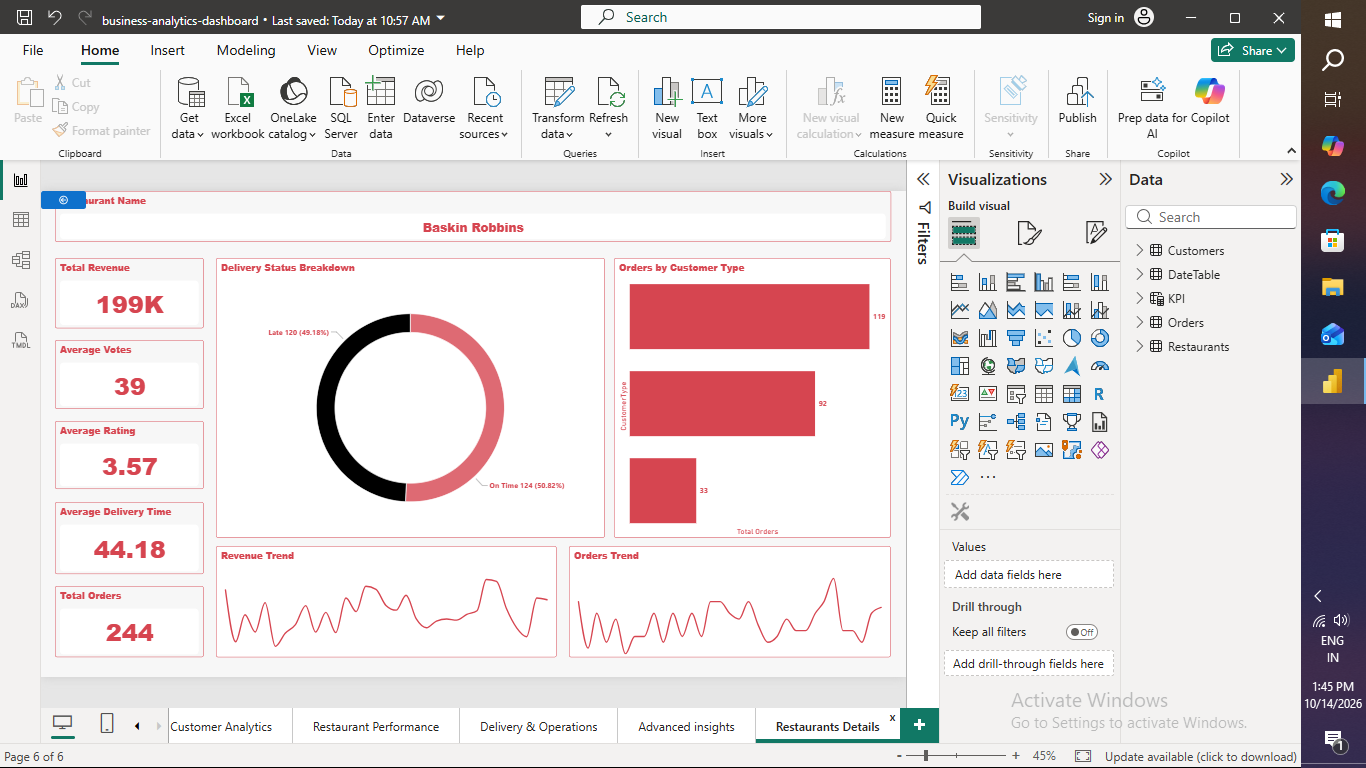

What the dashboard file says about the page in this screenshot:
{"tool":"powerbi","page":{"name":"Restaurants Details","canvas":[1920,1080],"ordinal":5},"visuals":[{"type":"cardVisual","title":"Average Delivery Time","fields":{"Data":["Orders.Avg Delivery Time"]},"box":[30.2,689.5,330.2,160.5],"z":0},{"type":"cardVisual","title":"Total Revenue","fields":{"Data":["Orders.Total Revenue"]},"box":[30.2,148.8,330.2,155.8],"z":1000},{"type":"cardVisual","title":"Average Votes","fields":{"Data":["Orders.Avg Votes"]},"box":[30.2,331.4,330.2,153.5],"z":2000},{"type":"cardVisual","title":"Average Rating","fields":{"Data":["Orders.Avg Rating"]},"box":[30.2,511.6,330.2,151.2],"z":3000},{"type":"cardVisual","title":"Total Orders","fields":{"Data":["Orders.Total Orders"]},"box":[30.2,876.7,330.2,158.1],"z":4000},{"type":"cardVisual","title":"Restaurant Name","fields":{"Data":["Min(Restaurants.name)"]},"box":[31.1,0,1855.6,113.2],"z":5000},{"type":"lineChart","title":"Revenue Trend","fields":{"Category":["DateTable.Date.Variation.Date Hierarchy.Year","DateTable.Date.Variation.Date Hierarchy.Month"],"Y":["Orders.Total Revenue"]},"box":[388.4,788.4,755.8,246.5],"z":6000},{"type":"lineChart","title":"Orders Trend","fields":{"Category":["DateTable.Date.Variation.Date Hierarchy.Year","DateTable.Date.Variation.Date Hierarchy.Month"],"Y":["Orders.Total Orders"]},"box":[1172.1,788.4,714,246.5],"z":7000},{"type":"barChart","title":"Orders by Customer Type","fields":{"Category":["Customers.CustomerType"],"Y":["Orders.Total Orders"]},"box":[1272.1,148.8,614,620.9],"z":8000},{"type":"actionButton","box":[0,0,100,40],"z":9000},{"type":"donutChart","title":"Delivery Status Breakdown","fields":{"Category":["Orders.Delivery Status"],"Y":["Orders.Total Orders"]},"box":[388.4,148.8,862.8,620.9],"z":10000}]}

Visuals, with their boxes on the page's 1920x1080 design canvas (x1, y1, x2, y2). These are canvas units, not pixel positions in the 1366x768 screenshot, which may show the page scaled, cropped or inside an application window:
"Average Delivery Time" cardVisual: region(30, 690, 360, 850)
"Total Revenue" cardVisual: region(30, 149, 360, 305)
"Average Votes" cardVisual: region(30, 331, 360, 485)
"Average Rating" cardVisual: region(30, 512, 360, 663)
"Total Orders" cardVisual: region(30, 877, 360, 1035)
"Restaurant Name" cardVisual: region(31, 0, 1887, 113)
"Revenue Trend" lineChart: region(388, 788, 1144, 1035)
"Orders Trend" lineChart: region(1172, 788, 1886, 1035)
"Orders by Customer Type" barChart: region(1272, 149, 1886, 770)
actionButton: region(0, 0, 100, 40)
"Delivery Status Breakdown" donutChart: region(388, 149, 1251, 770)
